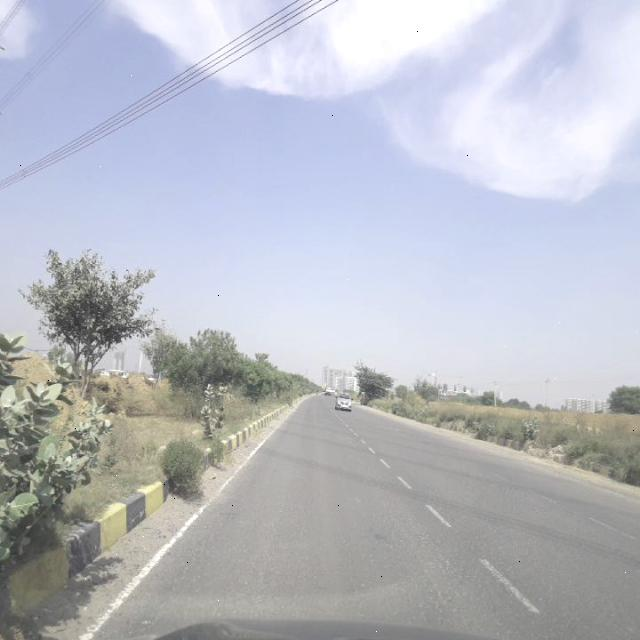D20: (383, 479, 639, 629)
